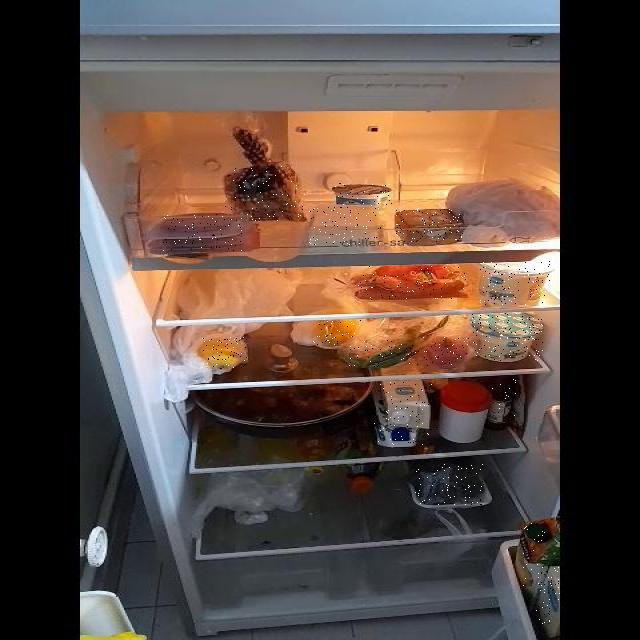bread: (226, 166, 306, 221)
broccoli: (415, 464, 484, 505)
butter: (396, 208, 464, 242)
carrot: (358, 266, 466, 300)
cheese: (309, 207, 382, 245)
green chilies: (349, 340, 422, 367)
juice: (521, 519, 547, 589)
lemon: (201, 337, 248, 369), (313, 318, 363, 346)
milk: (373, 382, 432, 445), (536, 567, 560, 626)
salami: (162, 214, 242, 251)
sauce: (492, 378, 517, 426)
tomato: (423, 337, 469, 366)
yoghurt: (472, 313, 543, 361), (480, 261, 551, 305), (333, 183, 392, 207)
